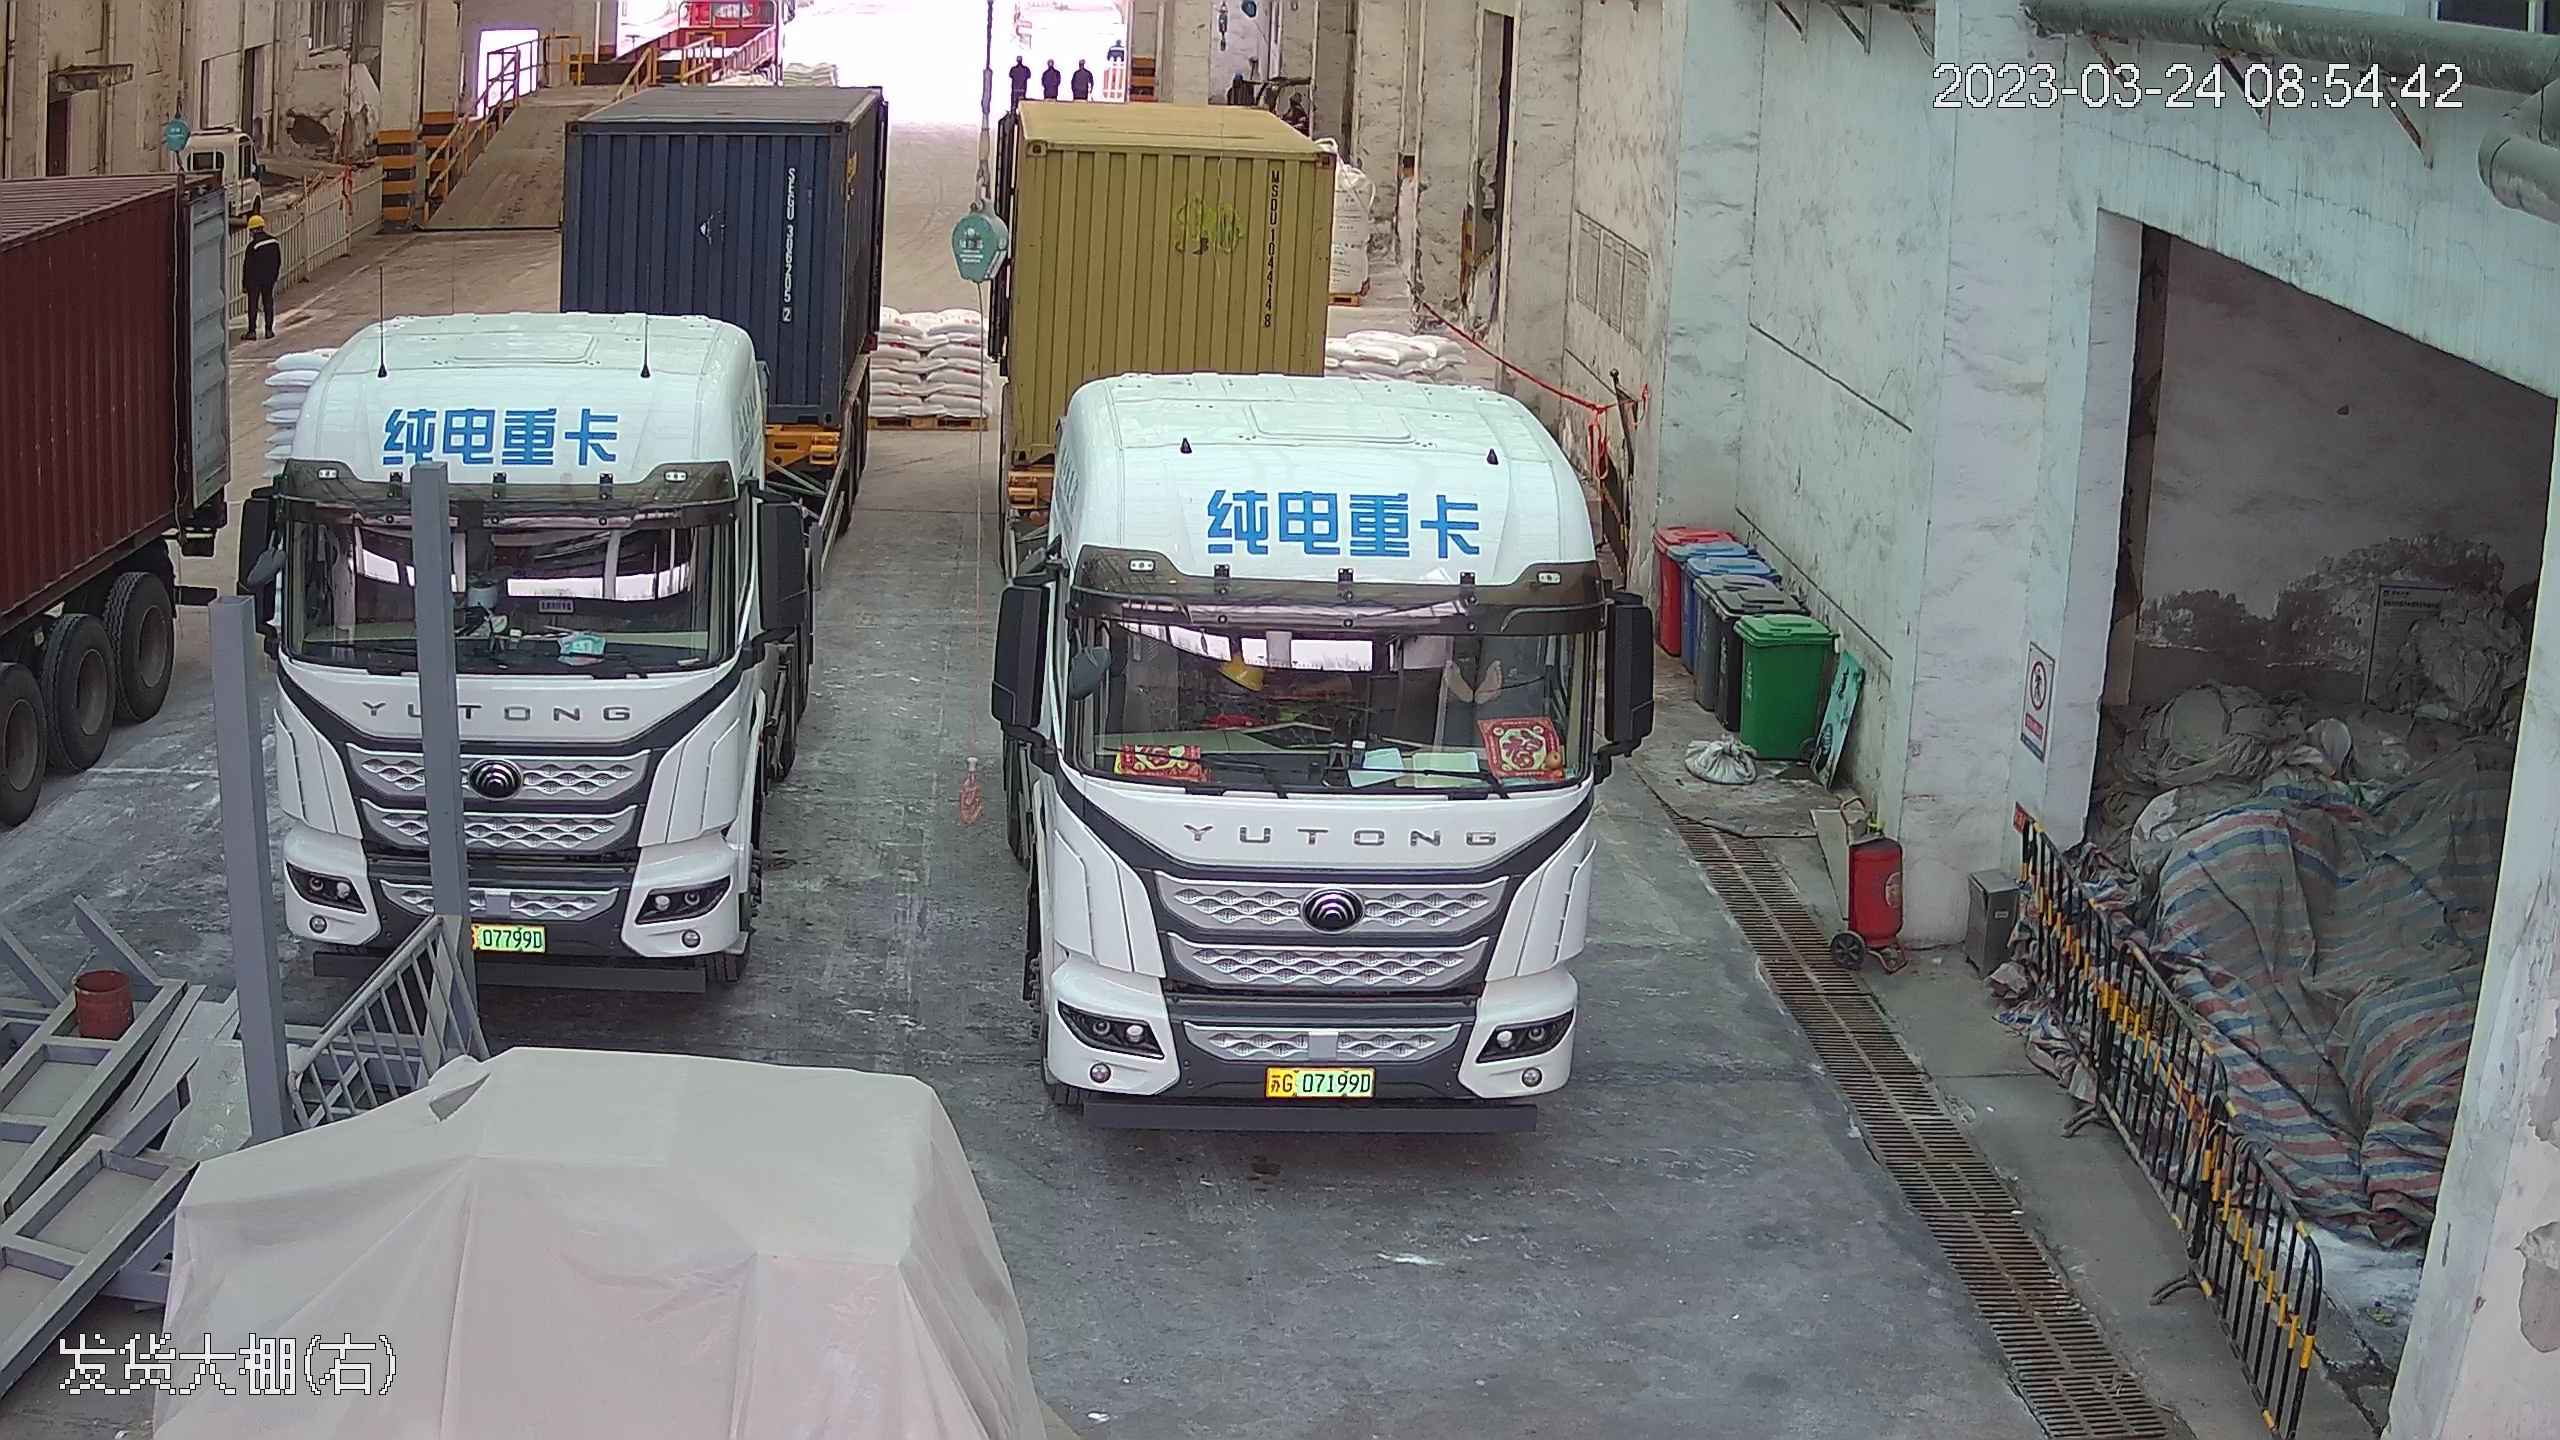head: (237, 204, 284, 339), (240, 209, 278, 255), (1285, 90, 1307, 123), (1072, 57, 1092, 82), (1009, 54, 1030, 76), (1042, 58, 1060, 78)
helmet: (247, 208, 268, 227), (1288, 92, 1302, 104), (1046, 58, 1055, 68), (1016, 55, 1023, 63), (1078, 59, 1085, 65)
people: (237, 207, 284, 342), (1069, 58, 1095, 101), (1010, 57, 1029, 99), (1040, 60, 1060, 99)
truck: (1008, 59, 1659, 1137), (281, 22, 852, 997), (1, 83, 241, 911)
